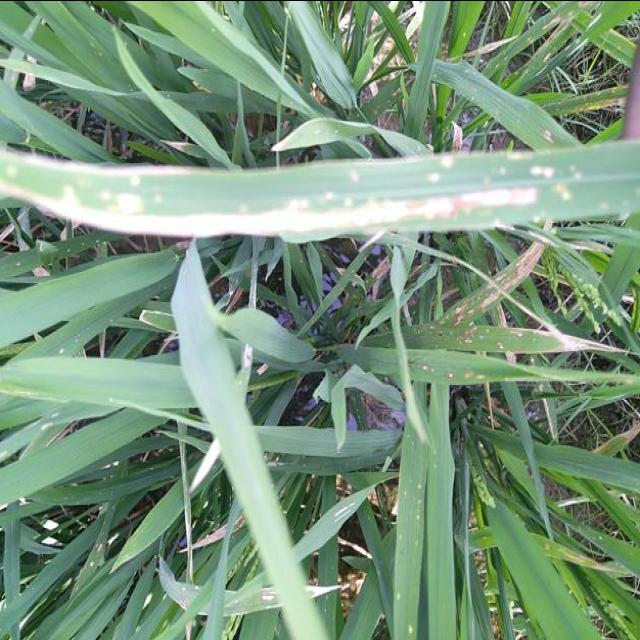Leaf Streak: (0, 139, 640, 240), (439, 241, 549, 325), (404, 324, 626, 359), (410, 353, 618, 383), (191, 524, 229, 547), (370, 255, 392, 278), (232, 513, 244, 530)
